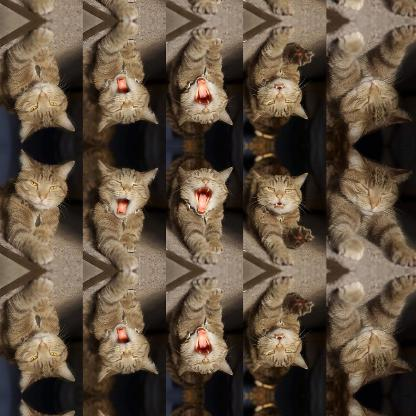Cat: (327, 146, 415, 264), (327, 26, 415, 144), (327, 276, 415, 394), (0, 148, 76, 264), (0, 26, 76, 142), (0, 276, 76, 392), (166, 144, 233, 262), (166, 278, 233, 396), (166, 29, 233, 146), (90, 156, 158, 270), (90, 270, 158, 384), (90, 21, 158, 134), (244, 276, 314, 384), (244, 156, 314, 263), (244, 27, 314, 134)
